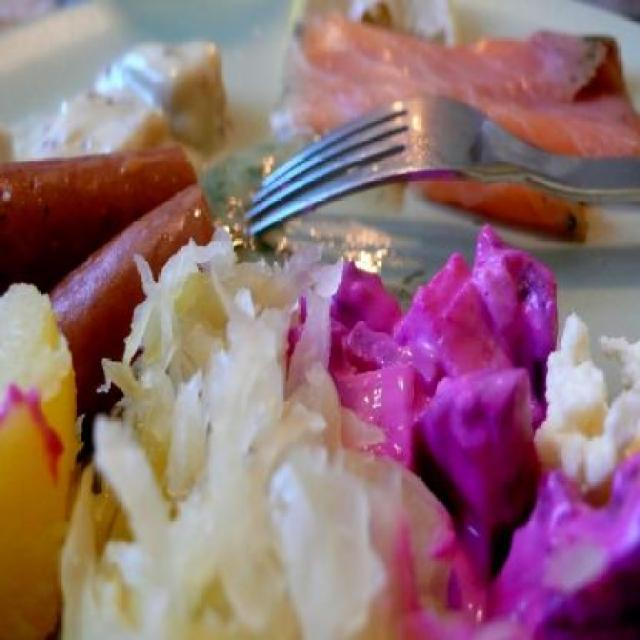Salad: (55, 213, 640, 639)
